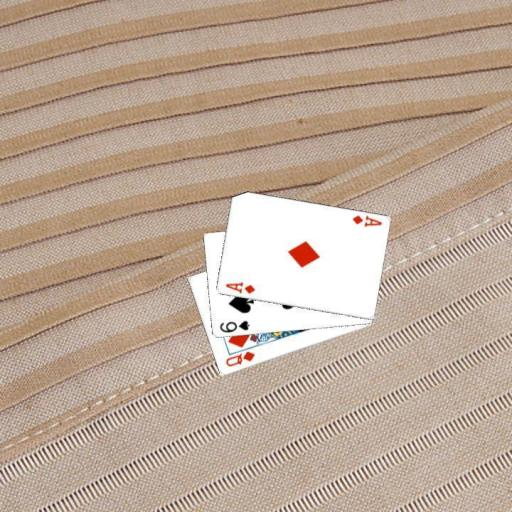card-corner: (223, 348, 256, 368), (216, 318, 251, 334), (349, 212, 383, 228), (223, 279, 256, 295)
